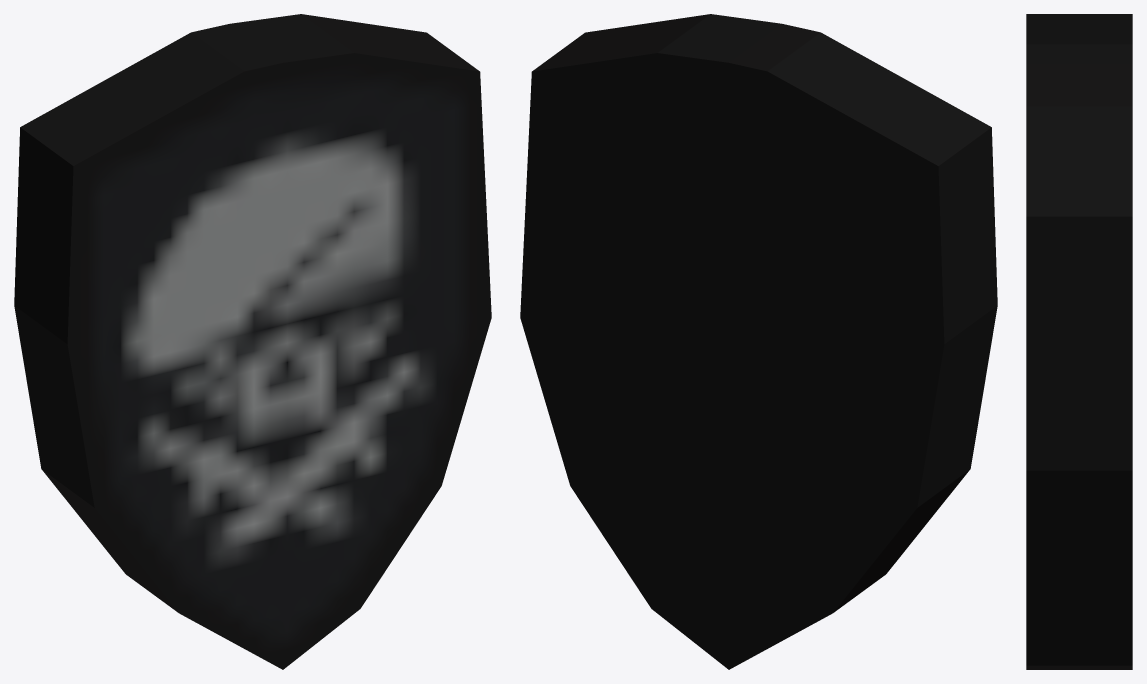
File: SM_Chr_Attach_Patch_Squad_02.fbx
3 renders of one model, left to right at view 1: azimuth 30°, elevation 25°; view 2: azimuth 150°, elevation 25°; view 3: azimuth 270°, elevation 25°, orthographic.
Parts seen in each view (by area): view 1: SM_Chr_Attach_Patch_Squad_02; view 2: SM_Chr_Attach_Patch_Squad_02; view 3: SM_Chr_Attach_Patch_Squad_02.
Part boxes in pixels (<box>): SM_Chr_Attach_Patch_Squad_02: <box>14,14,491,669</box>; SM_Chr_Attach_Patch_Squad_02: <box>520,14,997,669</box>; SM_Chr_Attach_Patch_Squad_02: <box>1026,14,1132,669</box>.
Bounding box in the file's own units: 4.46 × 6.11 × 0.972.
